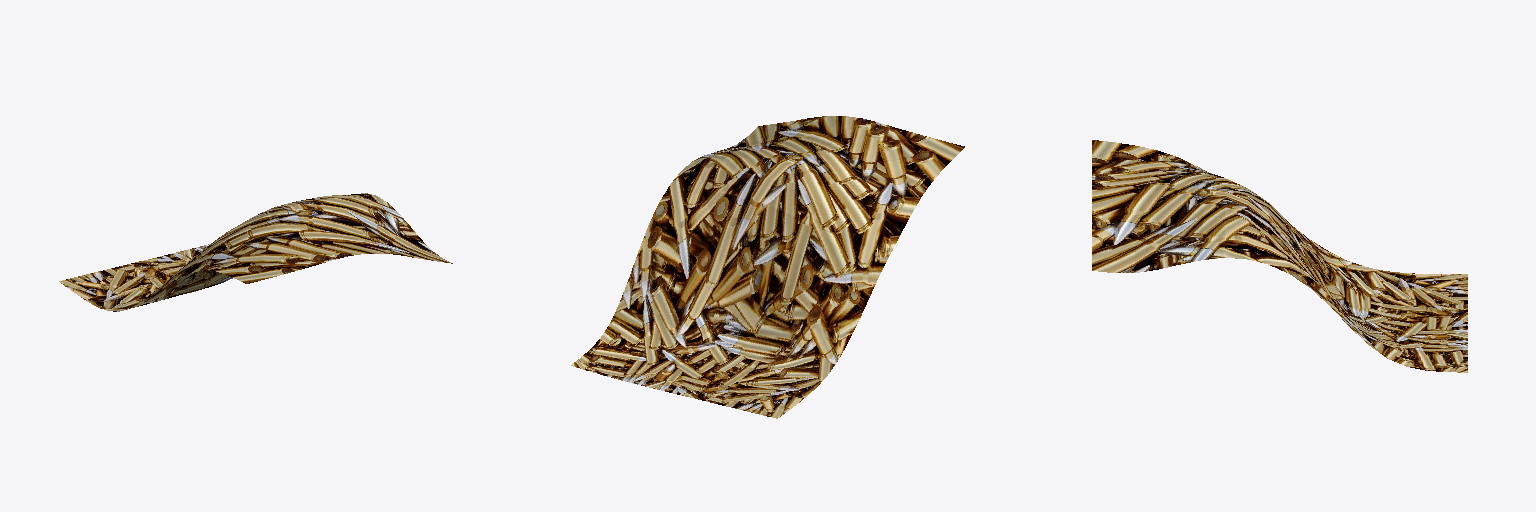
The picture shows the model from 3 angles: view 1: azimuth 30°, elevation 25°; view 2: azimuth 150°, elevation 25°; view 3: azimuth 270°, elevation 25°; orthographic projection.
Parts seen in each view (by area): view 1: Object002; view 2: Object002; view 3: Object002.
Part boxes in pixels (x1,y1,x2,y2): Object002: (59,193,452,311); Object002: (571,116,964,418); Object002: (1092,140,1467,372).
Size of the model in its own units: 12.75 by 8.09 by 20.04.
Materials: 1 (1 with a texture image).